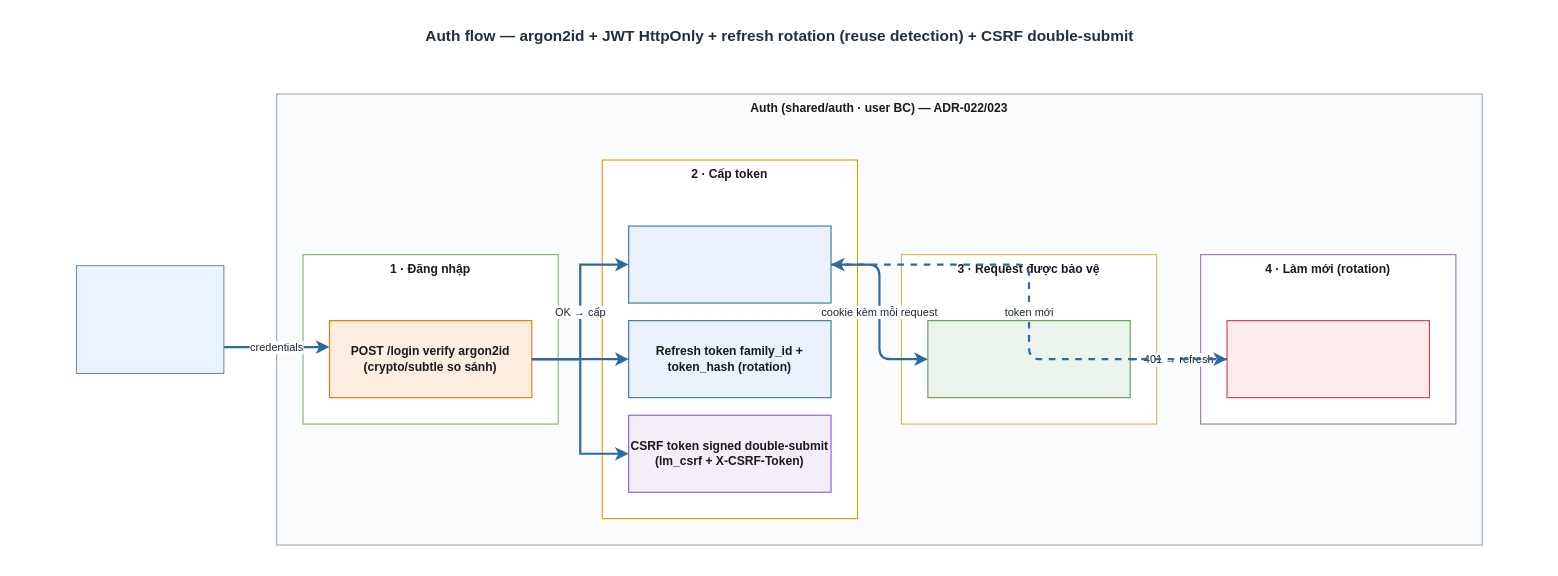
Some shapes in this 1558 by 576 pixel diagram are drawn without their labels. The centre of each missing label's shape, as x and y in pixels:
"Access JWT HttpOnly+Secure+SameSite cookie (ngắn hạn)" goes at (x=729, y=264).
"Client (Next.js / API) email + password" goes at (x=149, y=319).
"Middleware verify JWT cookie + CSRF header → context user_id" goes at (x=1028, y=359).
"POST /refresh rotate: used_at, family phát hiện reuse → thu hồi cả family" goes at (x=1327, y=359).
